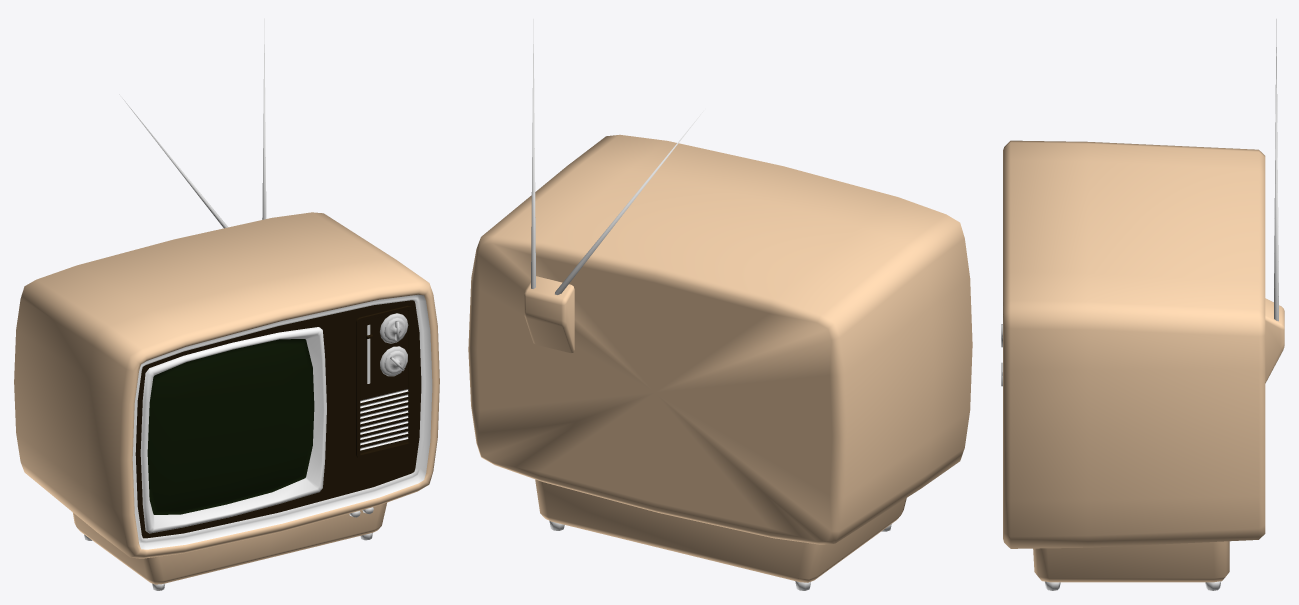
3 views of the same model, side by side, from view 1: azimuth 30°, elevation 25°; view 2: azimuth 150°, elevation 25°; view 3: azimuth 270°, elevation 25° (orthographic). The views are drawn at different scales.
Parts seen in each view (by area): view 1: Retro_TV; view 2: Retro_TV; view 3: Retro_TV.
Part boxes in pixels (box(x1,y1,x2,y2)): Retro_TV: box(14, 18, 439, 590); Retro_TV: box(468, 19, 972, 590); Retro_TV: box(1001, 19, 1284, 590).
Bounding box in the file's own units: 110 × 150 × 71.95.
